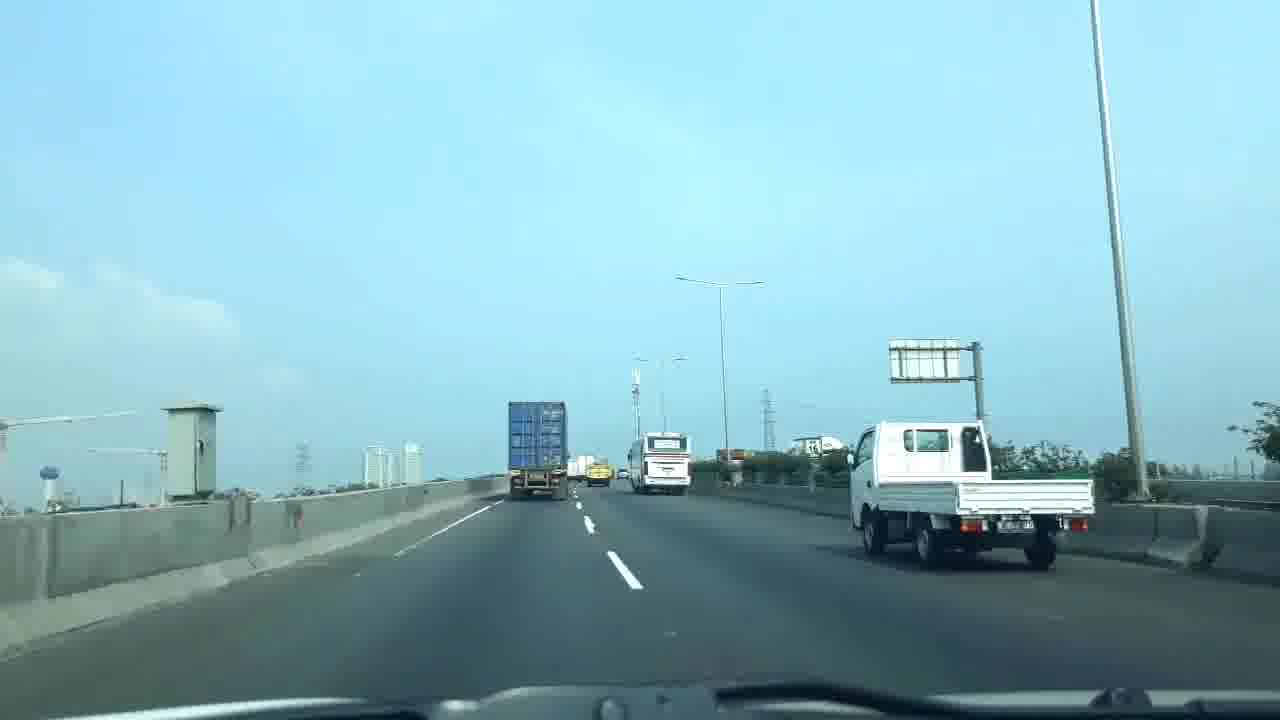plate_positive: (996, 520, 1035, 533)
